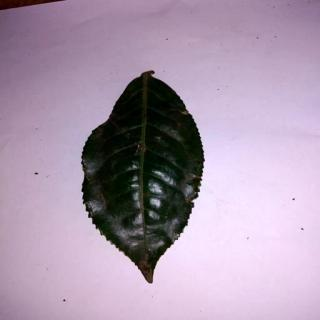Bird Eye Spot: (84, 69, 206, 287)
